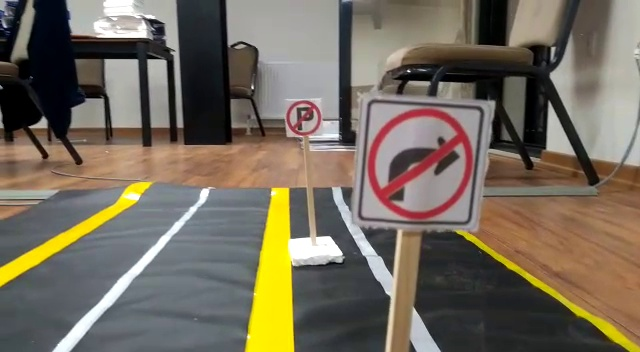park_yapilmaz: (282, 99, 325, 134)
saga_donulmez: (359, 97, 474, 229)
